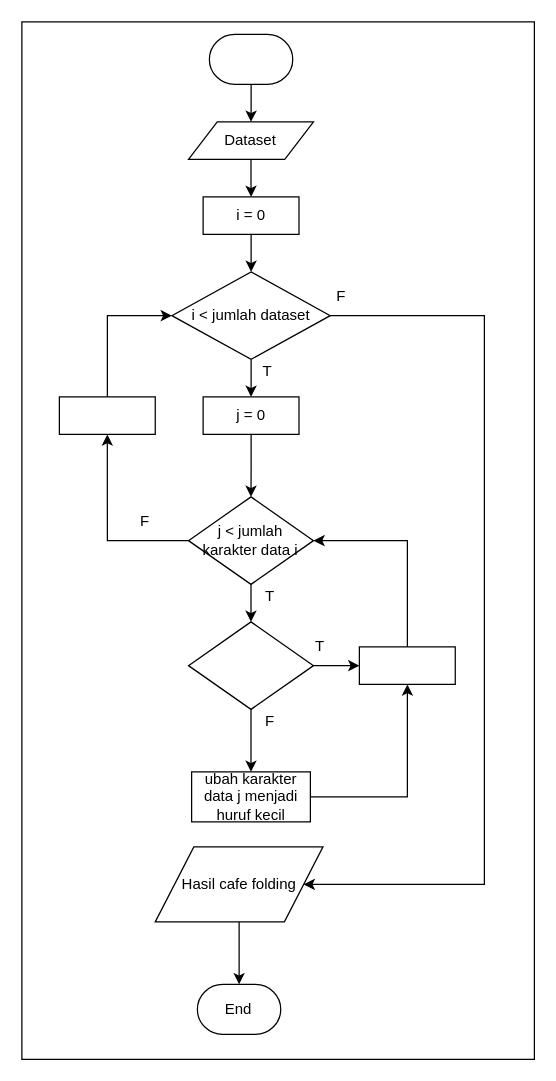
Image size: 556x1081. Some labels were removed from this diagram. The shapes that lost their labels are listed below. From the top down, each one's box as (x1, y1, x2, y2) in pixels, then its label:
(208, 33, 293, 84): Start
(58, 396, 155, 434): i++
(187, 621, 314, 709): karakter data j huruf kecil
(358, 646, 455, 684): j++
